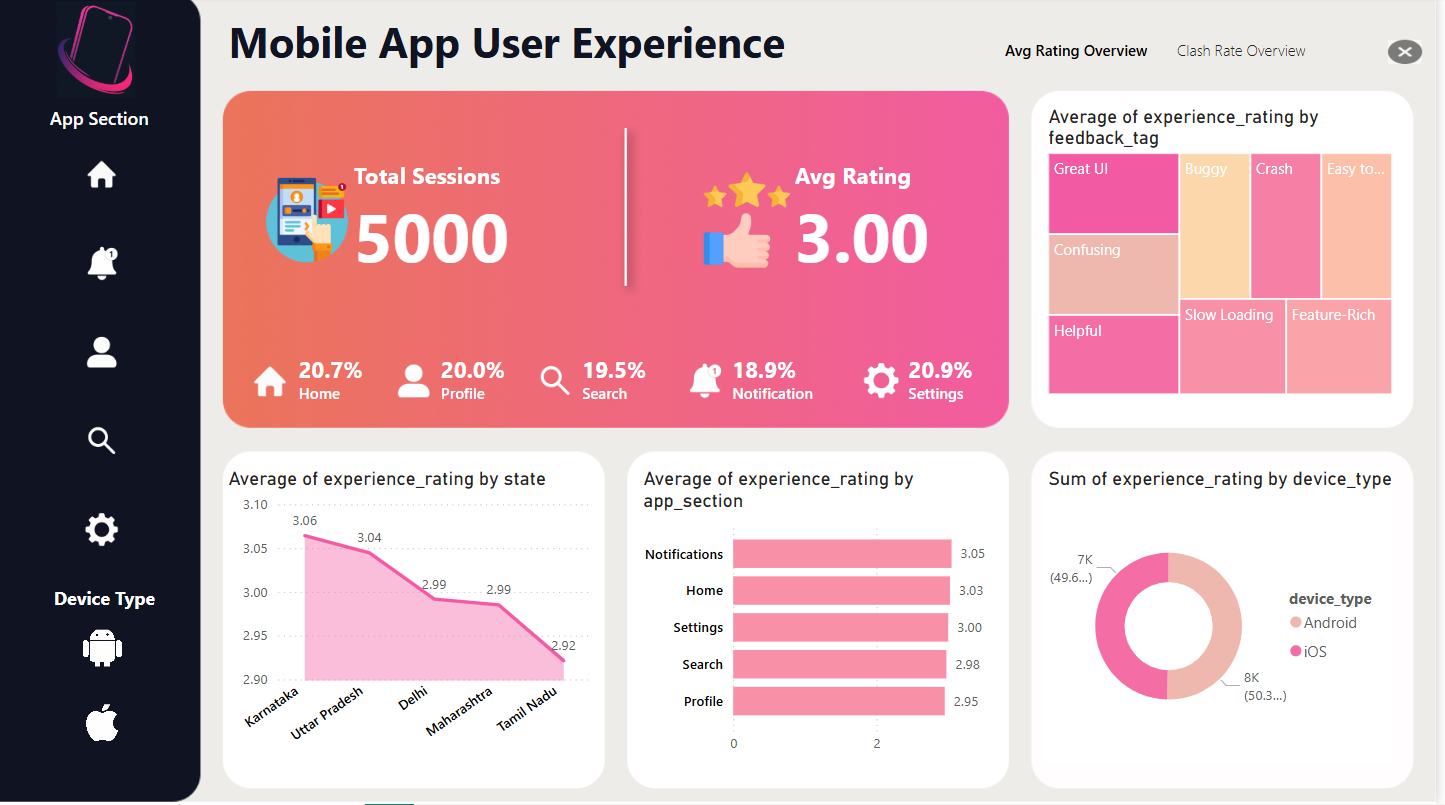

What the dashboard file says about the page in this screenshot:
{"tool":"powerbi","page":{"name":"Avg Rating Overview","canvas":[1280,720],"ordinal":0},"visuals":[{"type":"image","box":[0,0,174.9,96.5],"z":0},{"type":"textbox","box":[200.3,9.7,699.7,61.5],"z":1000},{"type":"cardVisual","fields":{"Data":["Data.total_count"]},"box":[220.8,129.1,290.8,117],"z":2000},{"type":"cardVisual","fields":{"Data":["Data.HomeSectionPct"]},"box":[200.3,301.6,160.5,72.4],"z":3000},{"type":"cardVisual","fields":{"Data":["Data.ProfileSectionPct"]},"box":[329.4,301.6,154.4,72.4],"z":4000},{"type":"cardVisual","fields":{"Data":["Data.SearchSectionPct"]},"box":[454.8,301.6,154.4,72.4],"z":5000},{"type":"cardVisual","fields":{"Data":["Data.NotificationSectionPct"]},"box":[588.7,301.6,154.4,72.4],"z":6000},{"type":"cardVisual","fields":{"Data":["Data.SettingSectionPct"]},"box":[745.6,301.6,154.4,72.4],"z":7000},{"type":"cardVisual","fields":{"Data":["Avg(Data.experience_rating)"]},"box":[608,129.1,246.1,123.1],"z":8000},{"type":"barChart","fields":{"Category":["Data.app_section"],"Y":["Avg(Data.experience_rating)"]},"box":[569.4,419.8,322.1,264.2],"z":9000},{"type":"areaChart","fields":{"Category":["Data.state"],"Y":["Avg(Data.experience_rating)"]},"box":[200.3,419.8,331.8,264.2],"z":10000},{"type":"donutChart","fields":{"Category":["Data.device_type"],"Y":["Sum(Data.experience_rating)"]},"box":[930.2,419.8,316.1,264.2],"z":11000},{"type":"treemap","fields":{"Group":["Data.feedback_tag"],"Values":["Avg(Data.experience_rating)"]},"box":[930.2,96.5,316.1,263],"z":12000},{"type":"actionButton","box":[1237.8,38.6,30.2,21.7],"z":13000},{"type":"shape","box":[483.8,105,149.6,166.5],"z":14000},{"type":"advancedSlicerVisual","title":"Device Type","fields":{"Values":["Data.device_type"]},"box":[41,524.8,103.8,159.3],"z":15000},{"type":"advancedSlicerVisual","title":"App Section","fields":{"Values":["Data.app_section"]},"box":[41,96.5,103.8,419.8],"z":16000},{"type":"pageNavigator","box":[891.6,29,285.9,39.8],"z":17000}]}

Visuals, with their boxes on the page's 1280x720 design canvas (x1, y1, x2, y2). These are canvas units, not pixel positions in the 1445x805 screenshot, which may show the page scaled, cropped or inside an application window:
image: region(0, 0, 175, 96)
textbox: region(200, 10, 900, 71)
cardVisual - Data.total_count: region(221, 129, 512, 246)
cardVisual - Data.HomeSectionPct: region(200, 302, 361, 374)
cardVisual - Data.ProfileSectionPct: region(329, 302, 484, 374)
cardVisual - Data.SearchSectionPct: region(455, 302, 609, 374)
cardVisual - Data.NotificationSectionPct: region(589, 302, 743, 374)
cardVisual - Data.SettingSectionPct: region(746, 302, 900, 374)
cardVisual - Avg(Data.experience_rating): region(608, 129, 854, 252)
barChart - Data.app_section x Avg(Data.experience_rating): region(569, 420, 892, 684)
areaChart - Data.state x Avg(Data.experience_rating): region(200, 420, 532, 684)
donutChart - Data.device_type x Sum(Data.experience_rating): region(930, 420, 1246, 684)
treemap - Data.feedback_tag x Avg(Data.experience_rating): region(930, 96, 1246, 360)
actionButton: region(1238, 39, 1268, 60)
shape: region(484, 105, 633, 272)
"Device Type" advancedSlicerVisual: region(41, 525, 145, 684)
"App Section" advancedSlicerVisual: region(41, 96, 145, 516)
pageNavigator: region(892, 29, 1178, 69)
